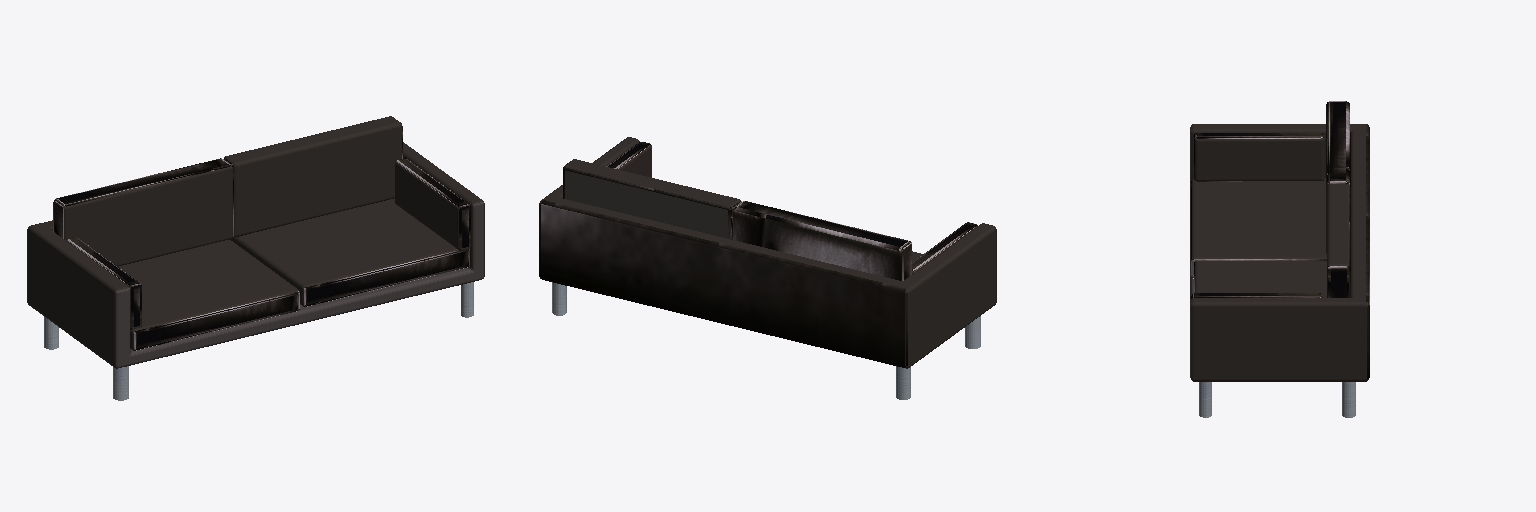
3 renders of one model, left to right at view 1: azimuth 30°, elevation 25°; view 2: azimuth 150°, elevation 25°; view 3: azimuth 270°, elevation 25°, orthographic.
Visible parts, largest first — view 1: Mesh1 Group1 Model, Mesh10 Group7 Model, Mesh7 Group4 Model, Mesh2 Group2 Model, Mesh11 Group8 Model, Mesh8 Group5 Model, Mesh9 Group6 Model; view 2: Mesh1 Group1 Model, Mesh2 Group2 Model, Mesh7 Group4 Model, Mesh8 Group5 Model, Mesh9 Group6 Model; view 3: Mesh1 Group1 Model, Mesh11 Group8 Model, Mesh9 Group6 Model, Mesh10 Group7 Model, Mesh7 Group4 Model, Mesh2 Group2 Model, Mesh8 Group5 Model.
Boxes of the visible parts, box(x1,y1,x2,y2) form: Mesh1 Group1 Model: box(27, 142, 484, 368); Mesh10 Group7 Model: box(230, 198, 469, 306); Mesh7 Group4 Model: box(224, 116, 402, 236); Mesh2 Group2 Model: box(53, 158, 232, 266); Mesh11 Group8 Model: box(119, 240, 299, 350); Mesh8 Group5 Model: box(395, 158, 470, 250); Mesh9 Group6 Model: box(67, 238, 141, 329); Mesh1 Group1 Model: box(539, 137, 996, 368); Mesh2 Group2 Model: box(733, 201, 911, 280); Mesh7 Group4 Model: box(563, 159, 741, 239); Mesh8 Group5 Model: box(606, 142, 651, 177); Mesh9 Group6 Model: box(912, 222, 977, 273); Mesh1 Group1 Model: box(1190, 124, 1369, 381); Mesh11 Group8 Model: box(1191, 178, 1326, 278); Mesh9 Group6 Model: box(1194, 133, 1324, 181); Mesh10 Group7 Model: box(1194, 261, 1326, 297); Mesh7 Group4 Model: box(1327, 184, 1350, 297); Mesh2 Group2 Model: box(1326, 101, 1349, 253); Mesh8 Group5 Model: box(1191, 293, 1322, 298).
Bounding box in the file's own units: 77.43 × 29.6 × 32.43.
Materials: 14 (4 with a texture image).